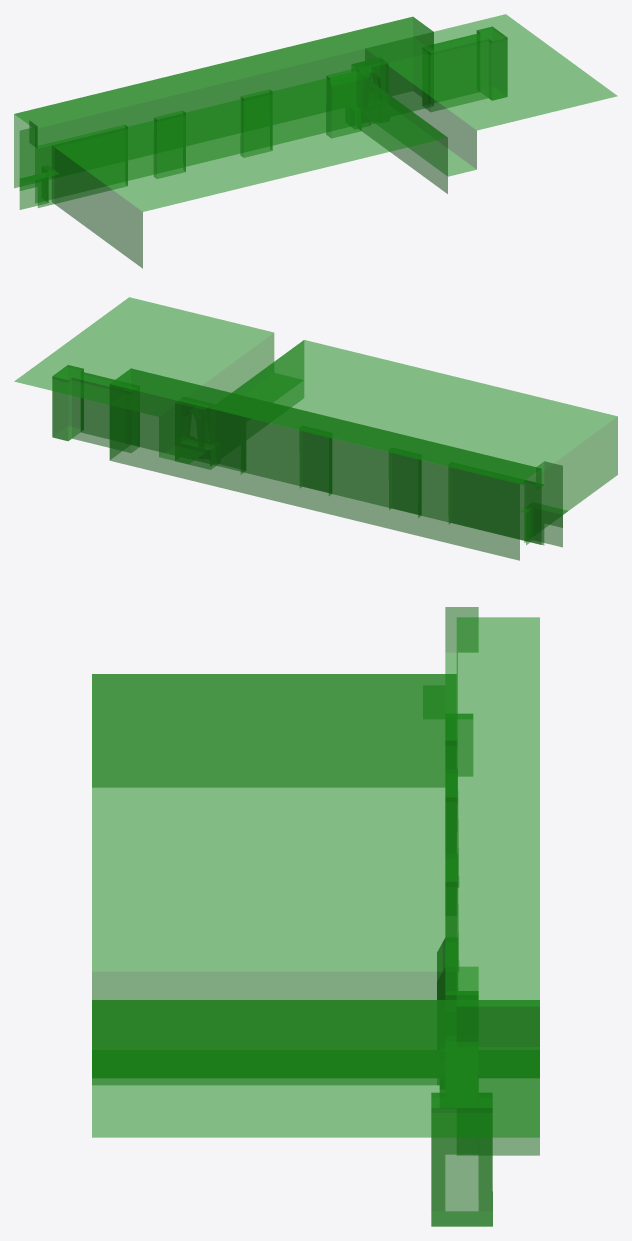
Rendered from hit_C.obj.
The picture shows the model from 3 angles, top to bottom: view 1: azimuth 30°, elevation 25°; view 2: azimuth 150°, elevation 25°; view 3: azimuth 270°, elevation 25°; orthographic projection. The views are drawn at different scales.
Size of the model in its own units: 423 by 65 by 161.
